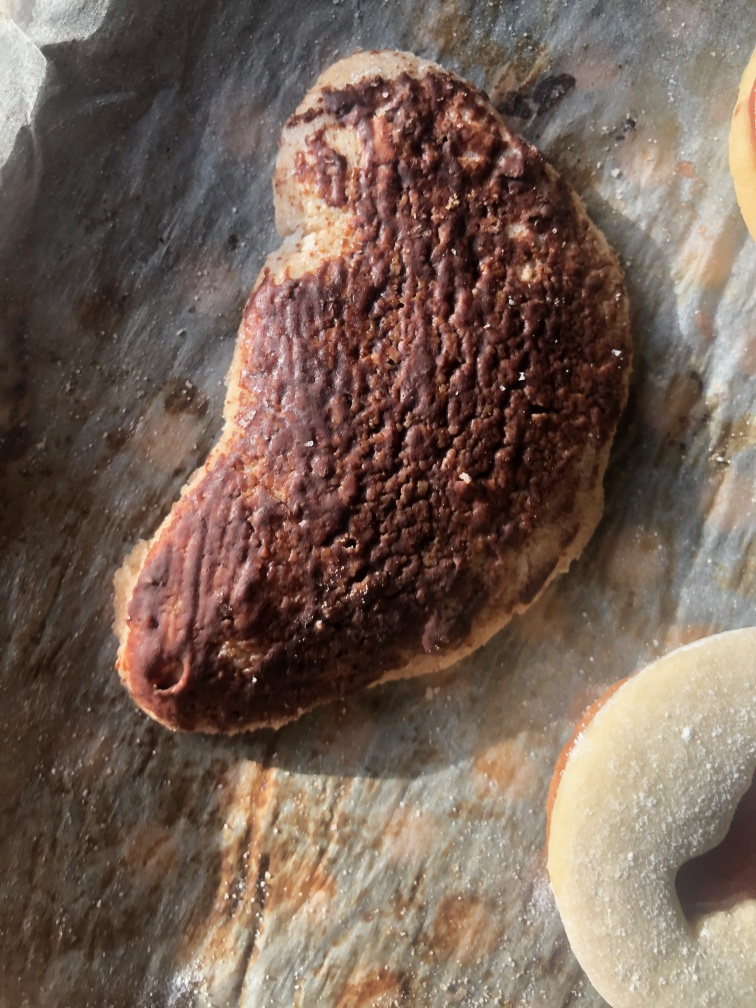christmas shortbread with jam: (543, 618, 755, 1008)
weird #1: (105, 43, 631, 755)
